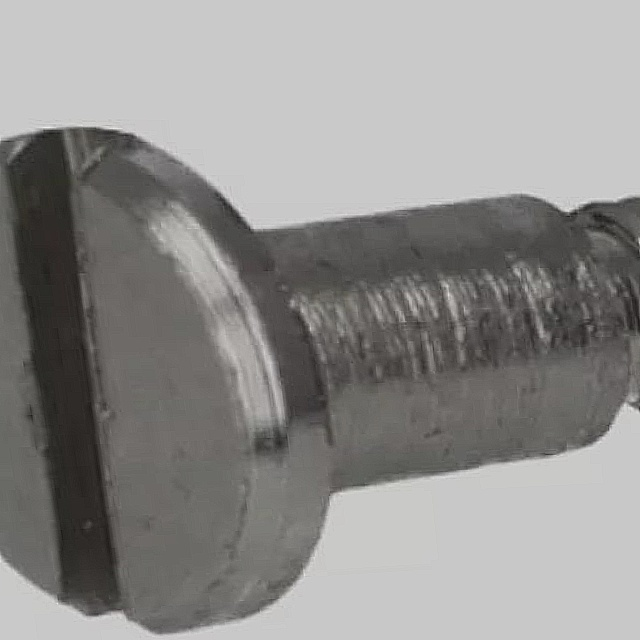duz: (0, 121, 355, 640)
